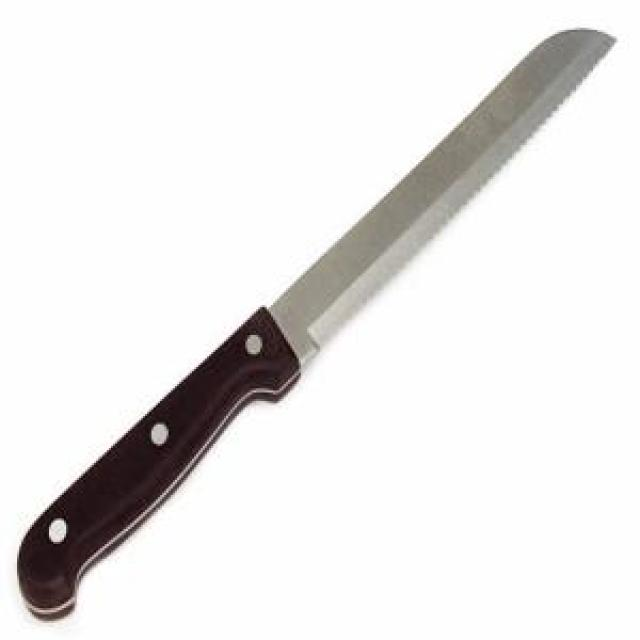knife: (17, 26, 616, 625)
